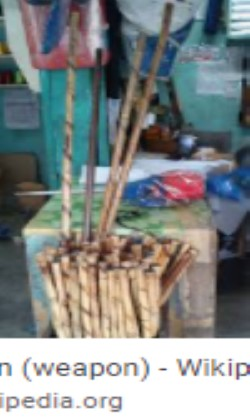baston_e: (107, 10, 175, 226), (96, 39, 146, 232), (59, 17, 80, 241), (80, 52, 103, 246), (35, 257, 64, 337), (51, 268, 73, 338), (118, 275, 139, 334), (80, 263, 92, 336), (98, 270, 111, 337), (137, 278, 152, 335), (87, 268, 99, 338), (70, 271, 81, 340), (107, 273, 118, 337), (146, 275, 158, 329)
baston_v: (65, 7, 82, 21), (133, 27, 150, 40), (161, 0, 179, 12), (97, 261, 109, 275), (91, 45, 105, 56), (179, 240, 194, 250), (188, 244, 202, 254), (118, 257, 130, 268), (118, 269, 131, 279), (44, 244, 57, 254), (129, 240, 142, 250), (34, 248, 45, 259), (134, 262, 144, 274), (149, 260, 162, 269), (151, 239, 161, 249), (145, 252, 158, 259), (59, 252, 70, 260), (111, 243, 122, 251), (49, 259, 61, 266), (183, 249, 193, 257), (87, 262, 97, 270), (79, 257, 89, 265), (144, 267, 157, 273), (107, 267, 116, 275), (69, 264, 78, 271), (169, 238, 176, 246)
